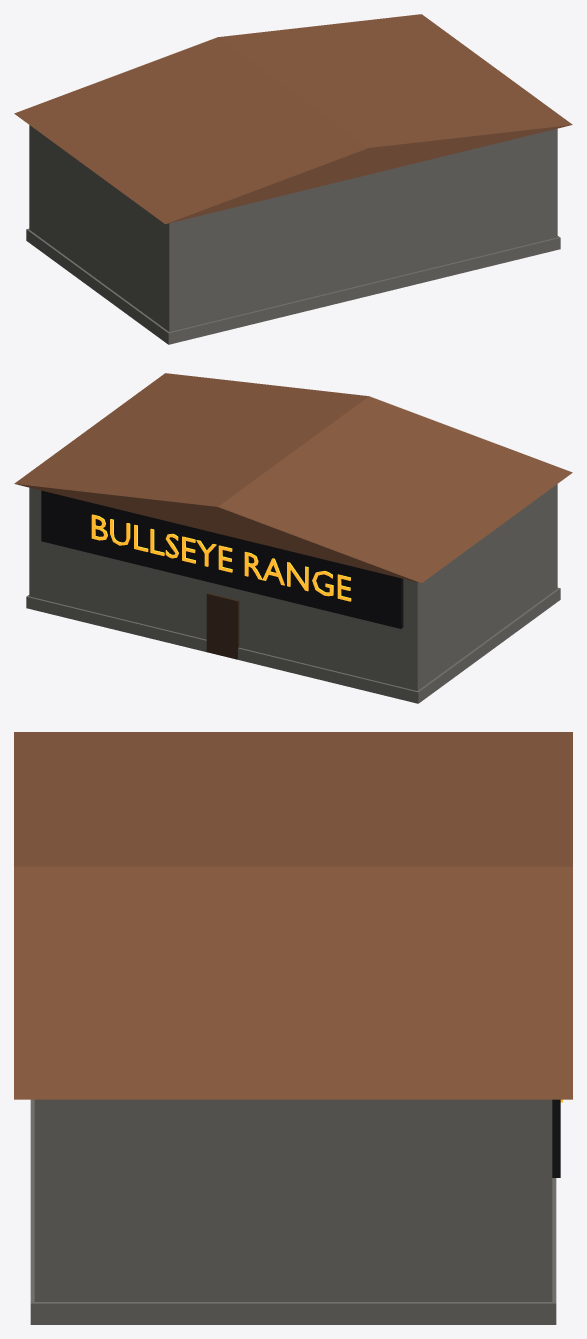
The model's file is bld_range.glb.
3 views of the same model, one above another, from view 1: azimuth 30°, elevation 25°; view 2: azimuth 150°, elevation 25°; view 3: azimuth 270°, elevation 25° (orthographic). The views are drawn at different scales.
Parts seen in each view (by area): view 1: bld_range__mesh; view 2: bld_range__mesh, bld_range__signboard, bld_range__sign; view 3: bld_range__mesh.
Part boxes in pixels (x1,y1,x2,y2): bld_range__mesh: [14, 14, 572, 344]; bld_range__mesh: [14, 373, 572, 703]; bld_range__signboard: [41, 490, 403, 628]; bld_range__sign: [91, 514, 351, 601]; bld_range__mesh: [14, 732, 572, 1324].
Size of the model in its own units: 16.8 by 6 by 10.8.
